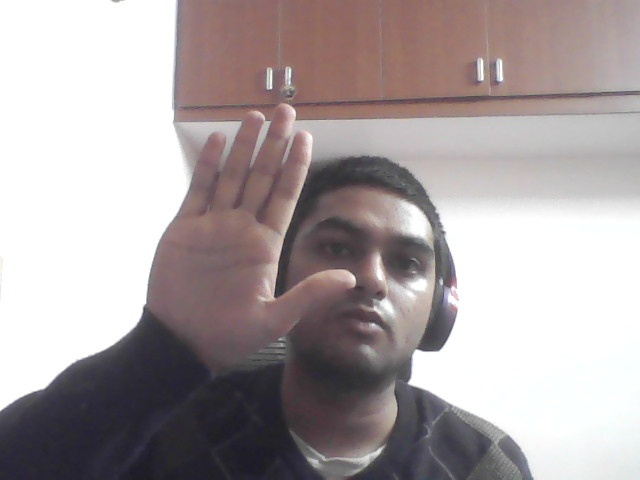Hello: (112, 92, 361, 380)
